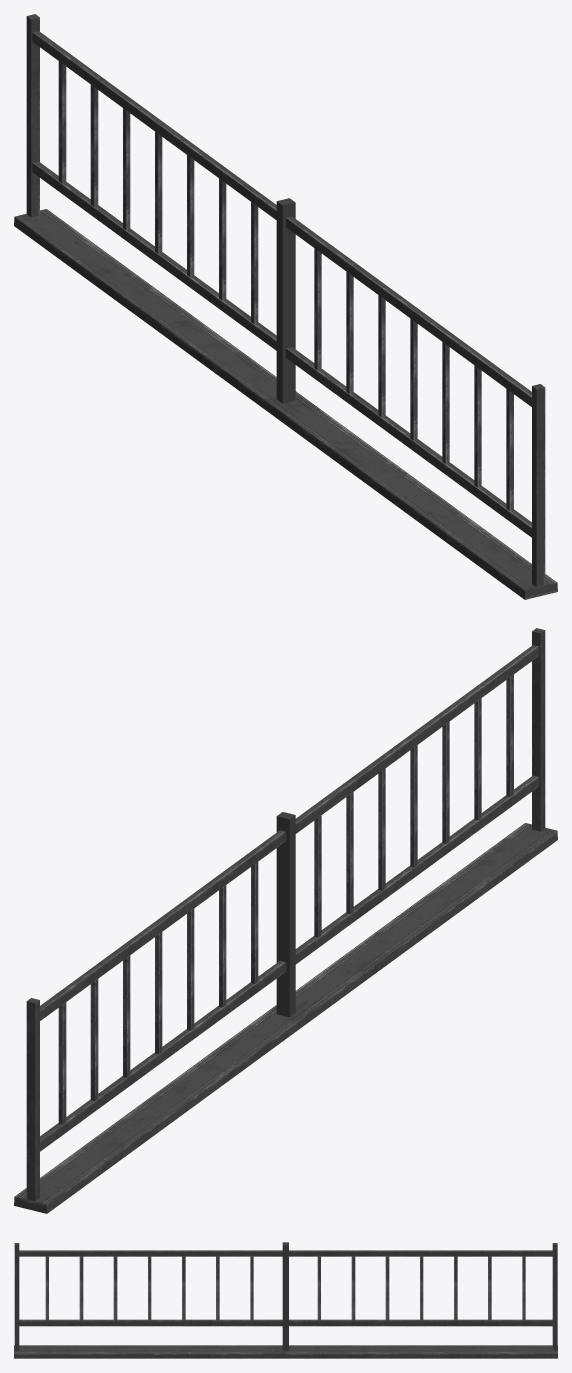
Rendered from CP_Parapet_E_4m_01.fbx.
3 views of the same model, one above another, from view 1: azimuth 30°, elevation 25°; view 2: azimuth 150°, elevation 25°; view 3: azimuth 270°, elevation 25° (orthographic). The views are drawn at different scales.
Parts seen in each view (by area): view 1: CP_Parapet_E_4m_01; view 2: CP_Parapet_E_4m_01; view 3: CP_Parapet_E_4m_01.
Part boxes in pixels (<box>): CP_Parapet_E_4m_01: <box>14,14,557,599</box>; CP_Parapet_E_4m_01: <box>14,628,557,1213</box>; CP_Parapet_E_4m_01: <box>14,1242,557,1358</box>.
Size of the model in its own units: 14.97 by 89.53 by 400.
